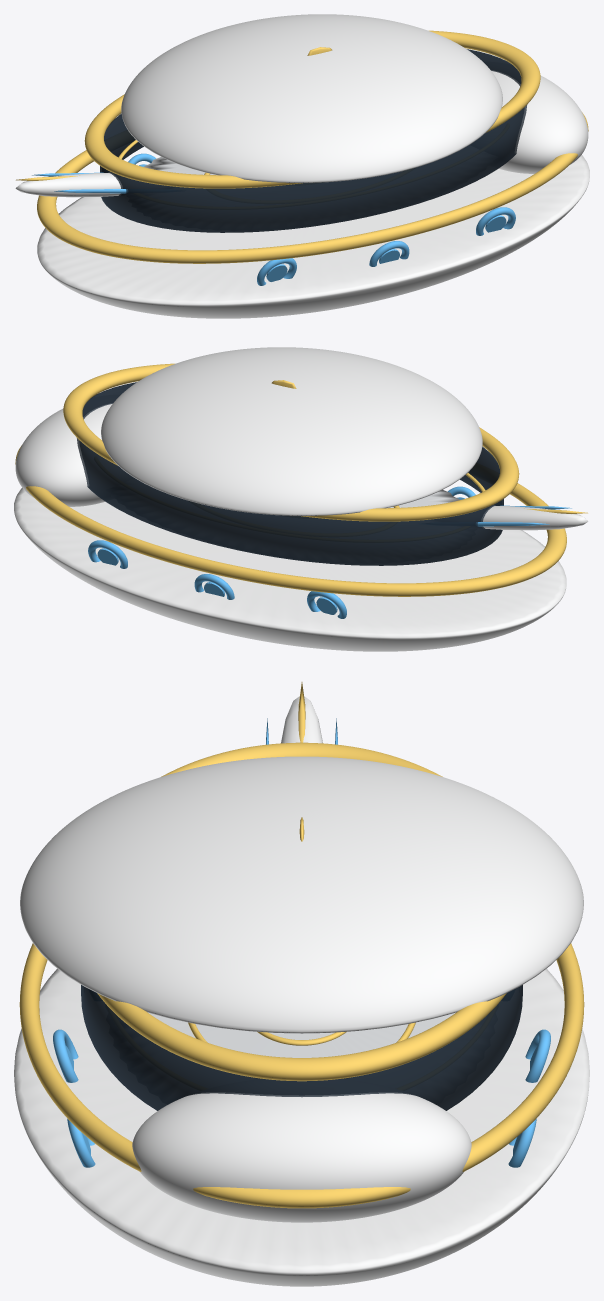
The model's file is ship_platform.fbx.
3 views of the same model, one above another, from view 1: azimuth 30°, elevation 25°; view 2: azimuth 150°, elevation 25°; view 3: azimuth 270°, elevation 25° (orthographic). The views are drawn at different scales.
Parts seen in each view (by area): view 1: Hull_Canopy, Hull_Lower, Glass_Panorama, Trim_Gold_Lower, Trim_Gold_Upper, Hull_Nose, Hull_RearFin, Deck_Floor, Light_Blue_Thruster_3, Light_Blue_Thruster_5, Light_Blue_Thruster_4; view 2: Hull_Canopy, Hull_Lower, Glass_Panorama, Trim_Gold_Lower, Trim_Gold_Upper, Hull_Nose, Hull_RearFin, Deck_Floor, Light_Blue_Thruster_0, Light_Blue_Thruster_2, Light_Blue_Thruster_1; view 3: Hull_Canopy, Hull_Lower, Hull_Nose, Glass_Panorama, Trim_Gold_Lower, Trim_Gold_Upper, Deck_Floor, Hull_RearFin, Light_Blue_Thruster_1, Light_Blue_Thruster_4.
Boxes of the visible parts, bbox=[...] form: Hull_Canopy: bbox=[121, 14, 502, 182]; Hull_Lower: bbox=[37, 155, 589, 318]; Glass_Panorama: bbox=[100, 49, 526, 232]; Trim_Gold_Lower: bbox=[37, 112, 588, 263]; Trim_Gold_Upper: bbox=[84, 30, 540, 188]; Hull_Nose: bbox=[491, 70, 588, 173]; Hull_RearFin: bbox=[15, 172, 122, 197]; Deck_Floor: bbox=[144, 157, 216, 175]; Light_Blue_Thruster_3: bbox=[476, 207, 515, 235]; Light_Blue_Thruster_5: bbox=[257, 258, 296, 285]; Light_Blue_Thruster_4: bbox=[369, 241, 409, 266]; Hull_Canopy: bbox=[101, 347, 482, 515]; Hull_Lower: bbox=[14, 488, 566, 651]; Glass_Panorama: bbox=[77, 382, 503, 565]; Trim_Gold_Lower: bbox=[15, 445, 566, 596]; Trim_Gold_Upper: bbox=[63, 363, 519, 521]; Hull_Nose: bbox=[15, 403, 112, 506]; Hull_RearFin: bbox=[481, 505, 588, 530]; Deck_Floor: bbox=[387, 490, 459, 508]; Light_Blue_Thruster_0: bbox=[88, 540, 127, 568]; Light_Blue_Thruster_2: bbox=[307, 591, 346, 618]; Light_Blue_Thruster_1: bbox=[194, 574, 234, 599]; Hull_Canopy: bbox=[20, 756, 583, 1033]; Hull_Lower: bbox=[14, 968, 589, 1286]; Hull_Nose: bbox=[132, 1092, 471, 1222]; Glass_Panorama: bbox=[81, 985, 522, 1110]; Trim_Gold_Lower: bbox=[19, 943, 584, 1208]; Trim_Gold_Upper: bbox=[97, 742, 506, 1081]; Deck_Floor: bbox=[148, 1012, 455, 1057]; Hull_RearFin: bbox=[281, 696, 322, 743]; Light_Blue_Thruster_1: bbox=[525, 1029, 550, 1082]; Light_Blue_Thruster_4: bbox=[53, 1029, 78, 1082].
Bounding box in the file's own units: 18.18 × 6.94 × 10.34.
